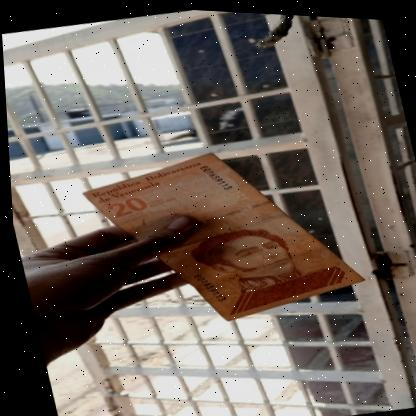twenty-front-vef: (72, 121, 368, 345)
